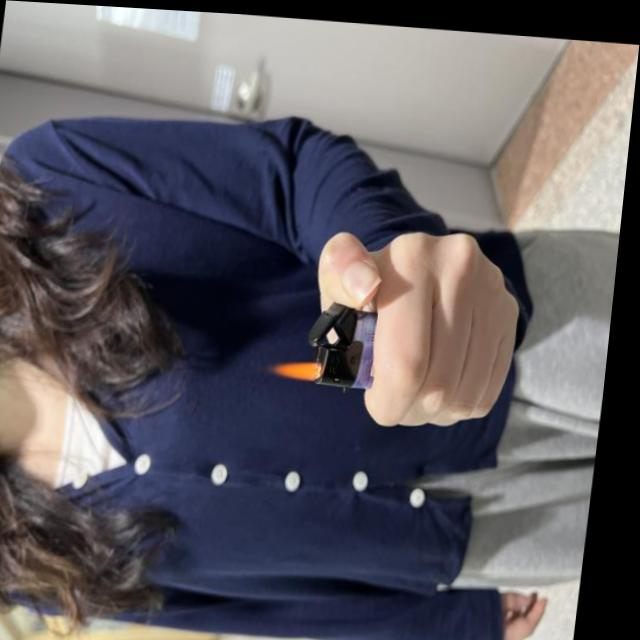Fire: (273, 353, 330, 378)
